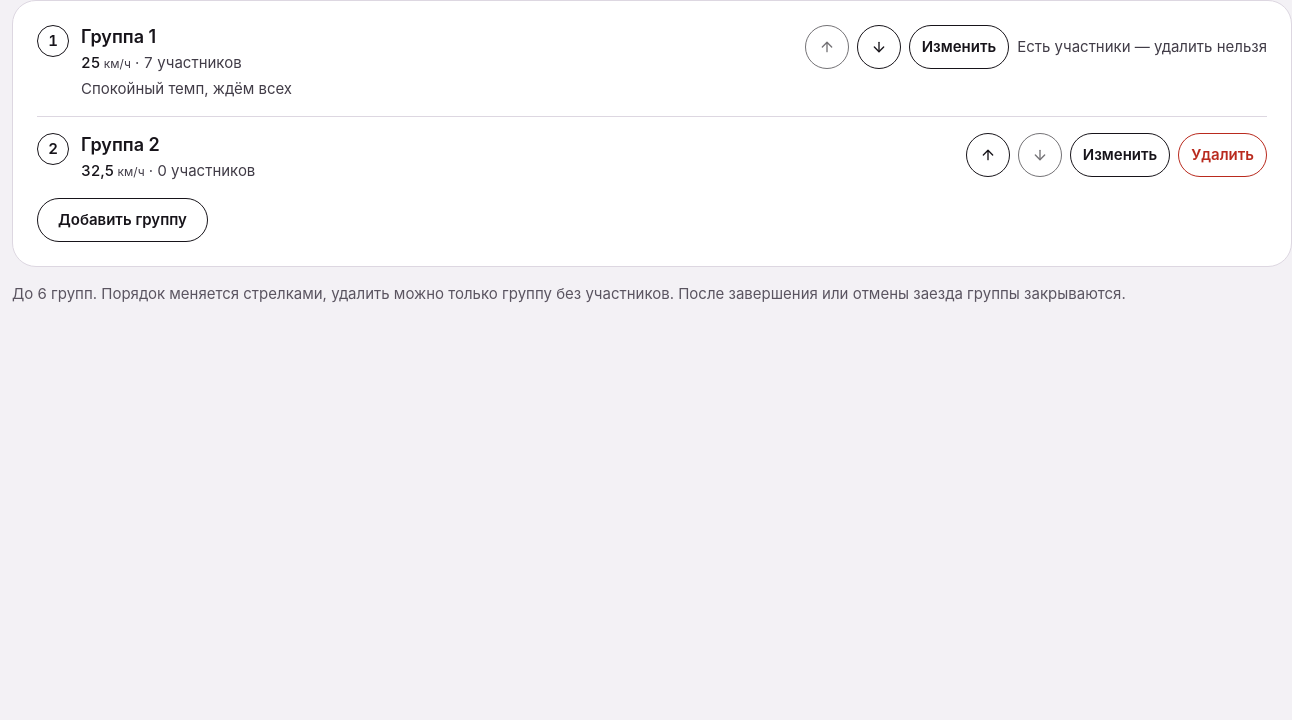
Test case: GroupsEditor — server errors › maps group_limit_reached
Click the button "Добавить группу" at (122, 220), box x1=37 y1=198 x2=208 y2=242
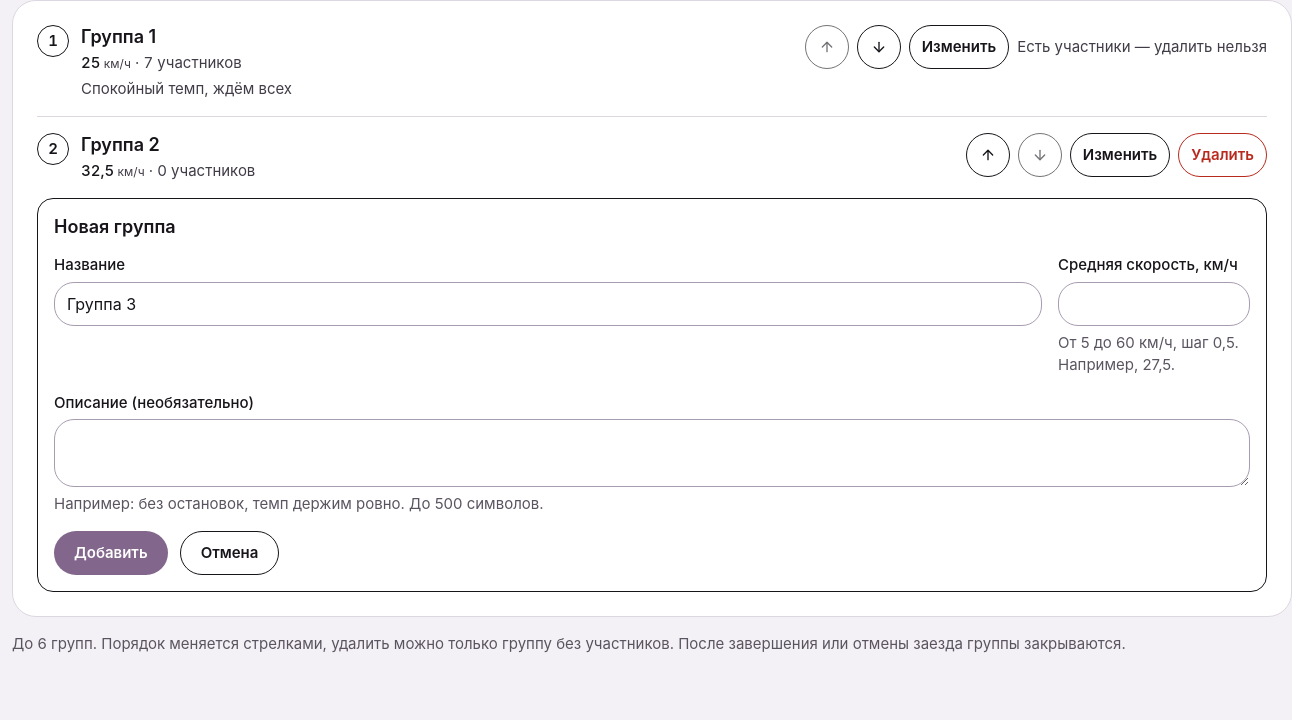
Type "30" into the field labelled "Средняя скорость, км/ч" at (1154, 304), box x1=1058 y1=282 x2=1250 y2=326
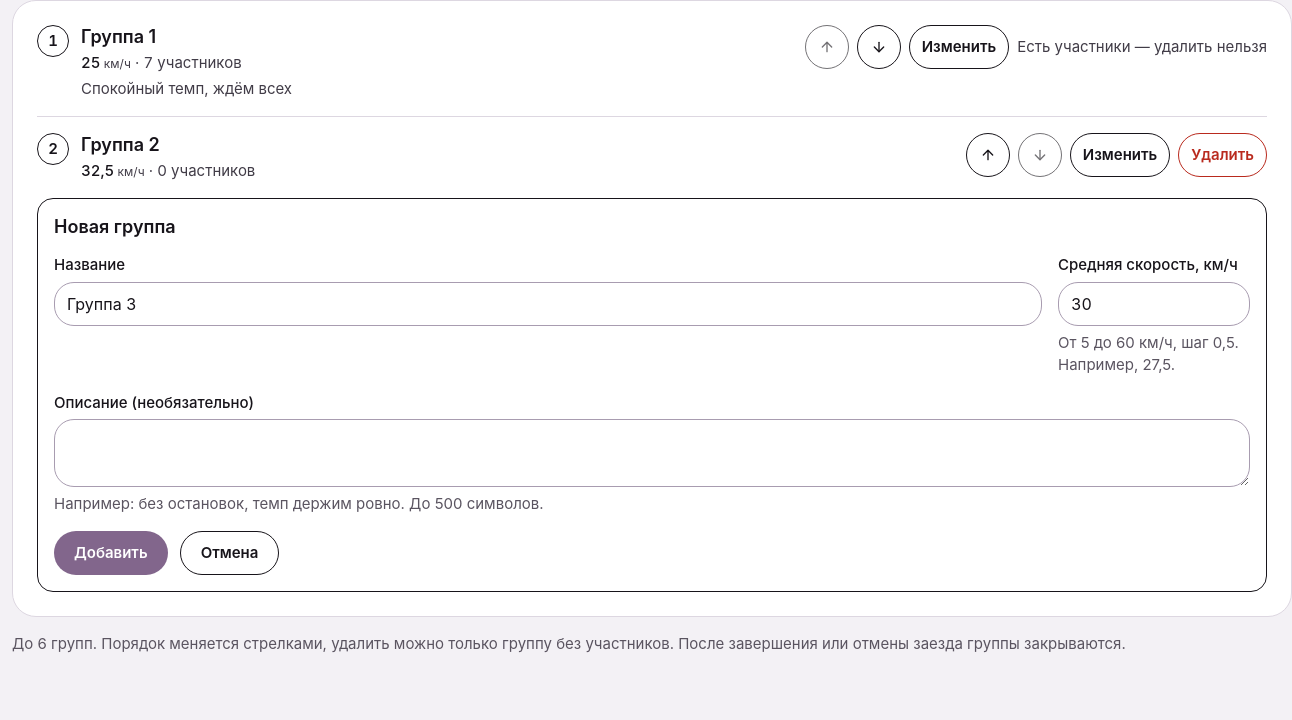
Click the button "Добавить" at (111, 553), box x1=54 y1=531 x2=168 y2=575
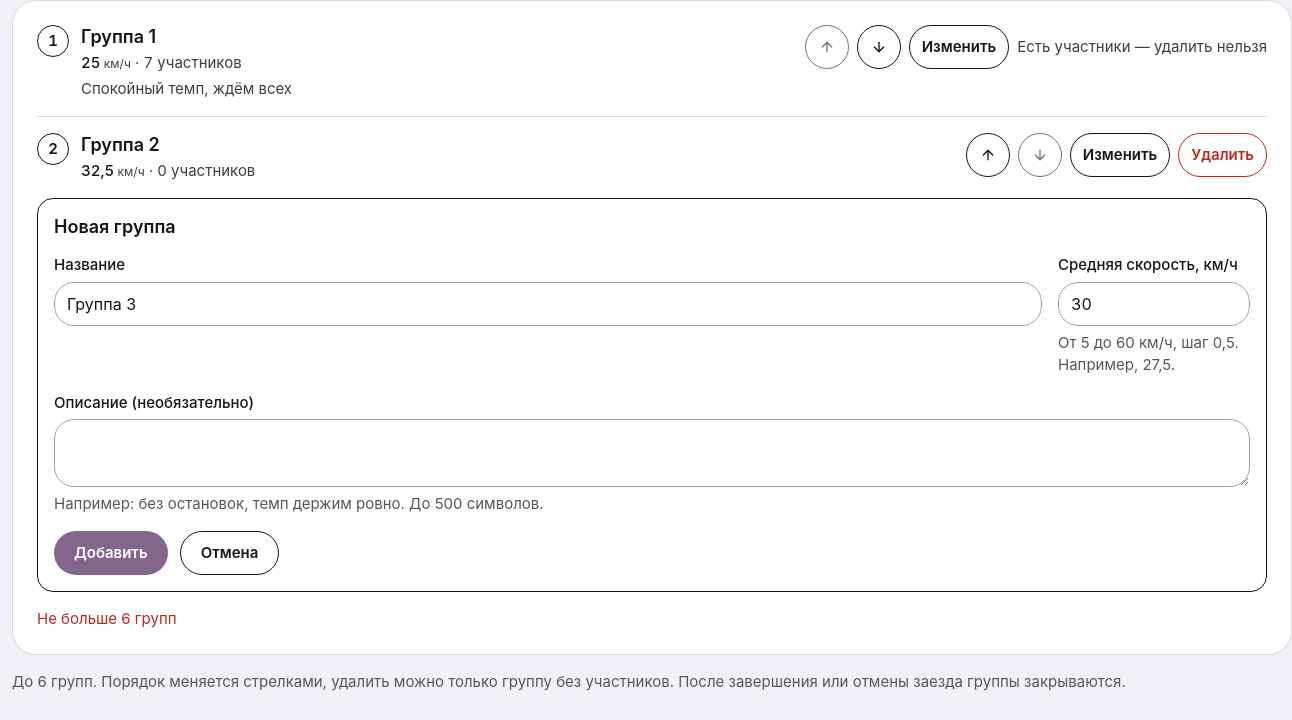
expect the text "Не больше 6 групп" is shown: met, box x1=37 y1=609 x2=177 y2=628
